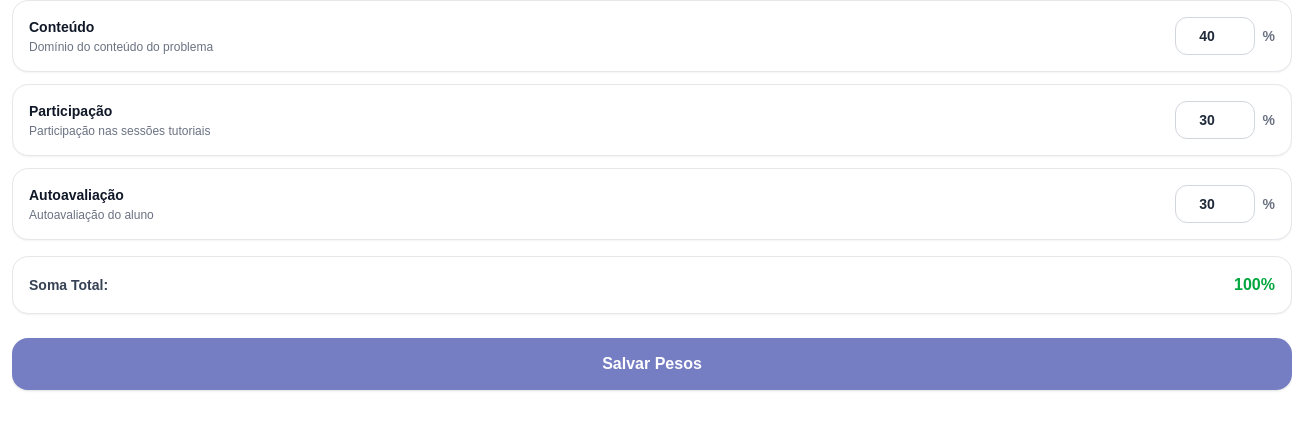
Test case: [US08] CriteriaWeightsForm › [QA] should sum the typed weights in real time: red at 90% and 110%, green again at 100%
Replace the text in the number field labelled "Autoavaliação" with "20". click: coordinates (1214, 204)
box: [1174,185,1254,223]
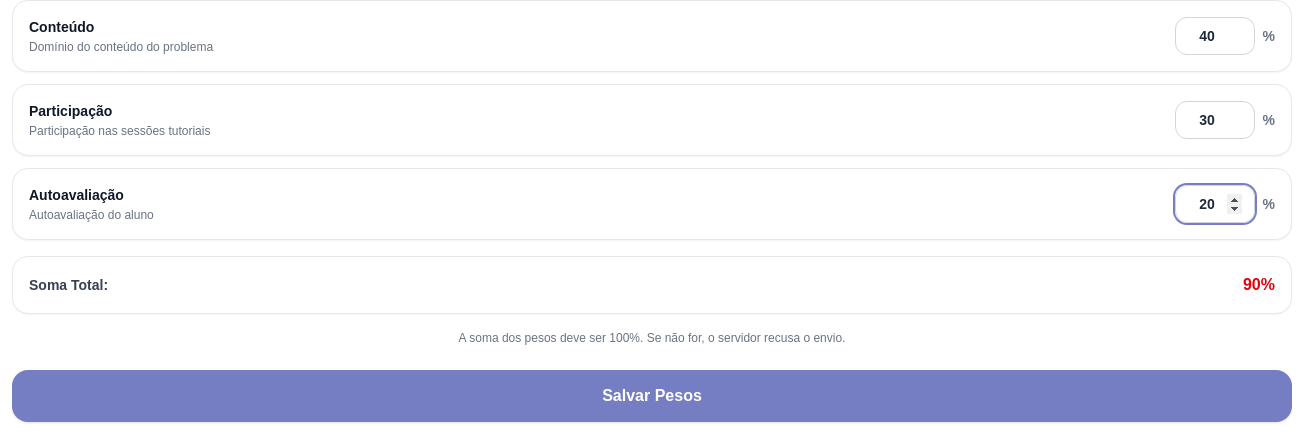
expect the message reads "90%": met, box [1243,273,1275,297]
Replace the text in the number field labelled "Autoavaliação" with "40". click: coordinates (1214, 204)
box: [1174,185,1254,223]
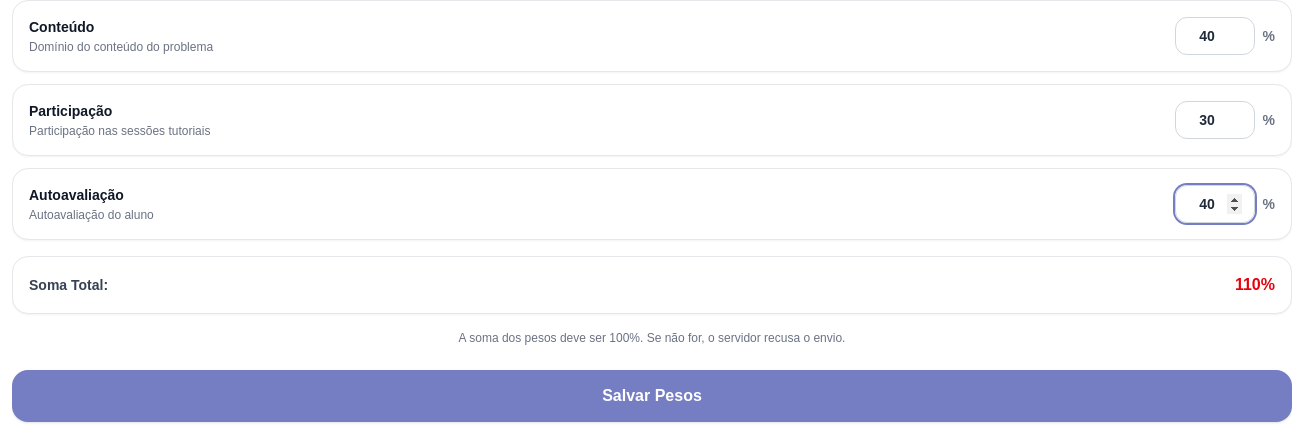
expect the message reads "110%": met, box [1235,273,1275,297]
Replace the text in the number field labelled "Autoavaliação" with "30". click: coordinates (1214, 204)
box: [1174,185,1254,223]
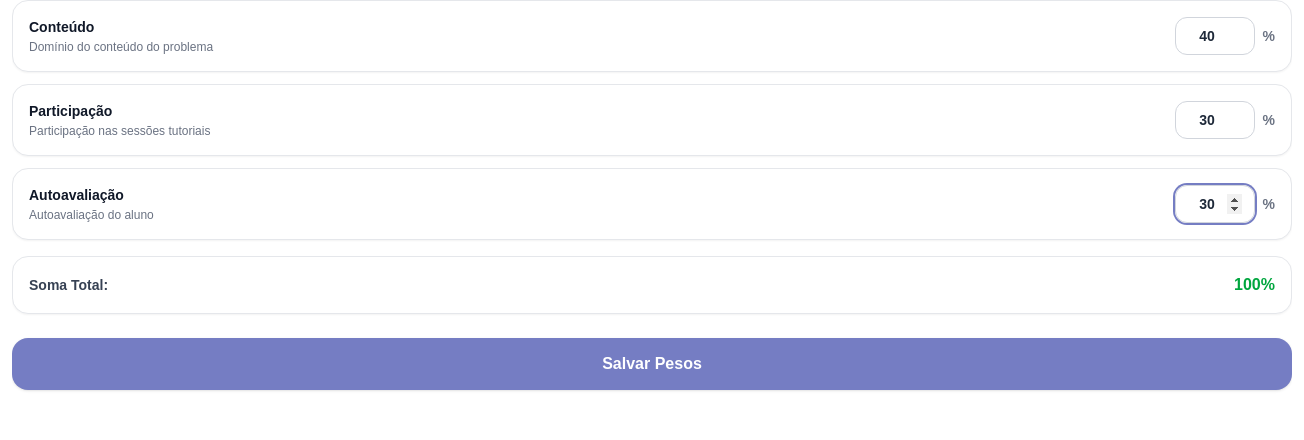
expect the message reads "100%": met, box [1234,273,1275,297]
